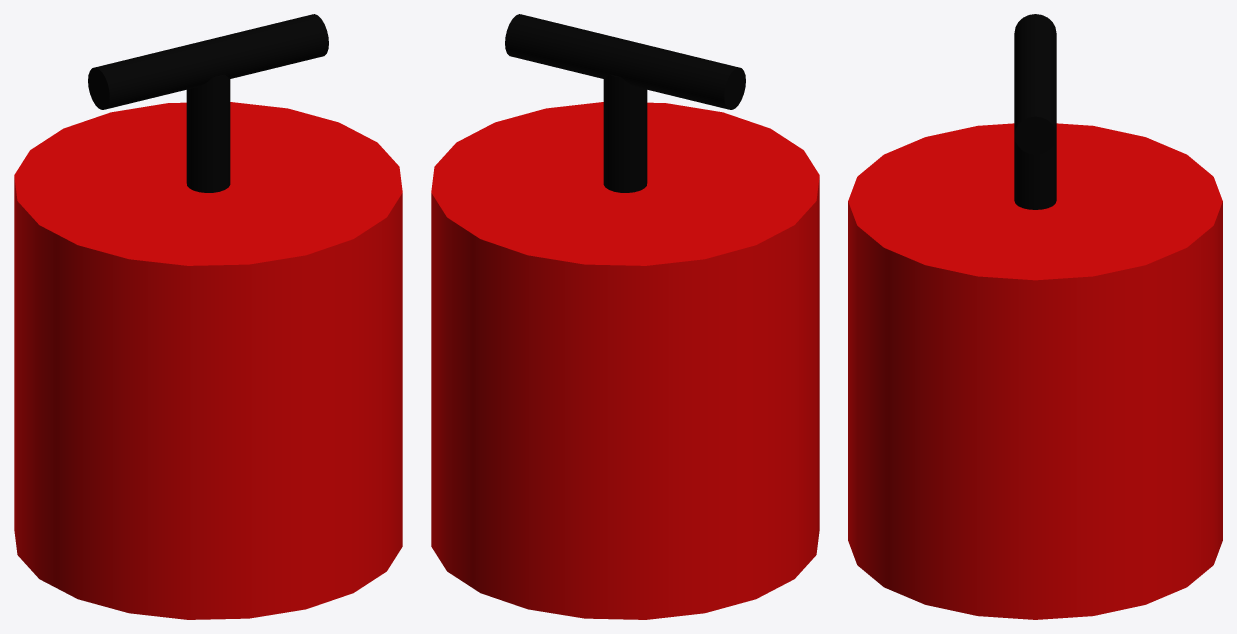
Rendered from Pump@Pumping.fbx.
The picture shows the model from 3 angles, left to right: view 1: azimuth 30°, elevation 25°; view 2: azimuth 150°, elevation 25°; view 3: azimuth 270°, elevation 25°; orthographic projection. The views are drawn at different scales.
Parts seen in each view (by area): view 1: polySurface102, polySurface105; view 2: polySurface102, polySurface105; view 3: polySurface102, polySurface105.
Part boxes in pixels (<box>): polySurface102: <box>14,102,402,619</box>; polySurface105: <box>88,14,328,192</box>; polySurface102: <box>431,102,819,619</box>; polySurface105: <box>505,14,745,192</box>; polySurface102: <box>848,123,1222,619</box>; polySurface105: <box>1014,14,1056,209</box>.
Size of the model in its own units: 2 by 2.8 by 2.
